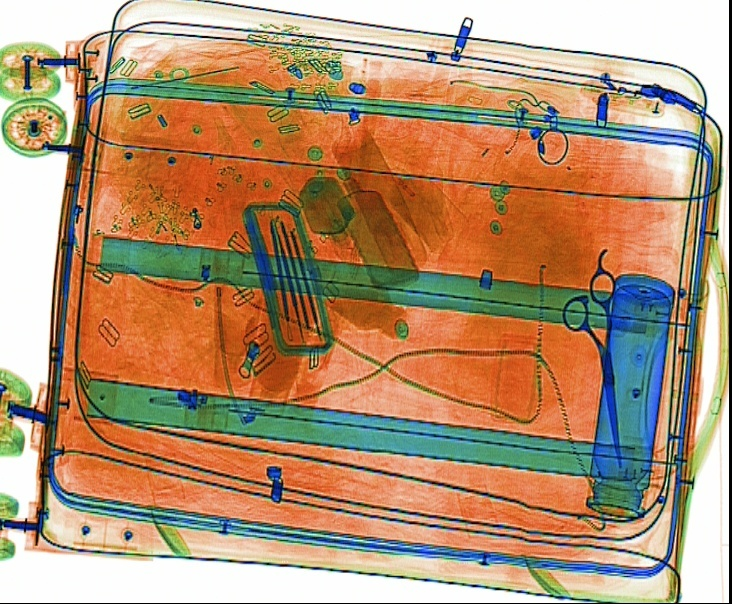scissors: (559, 245, 624, 470)
